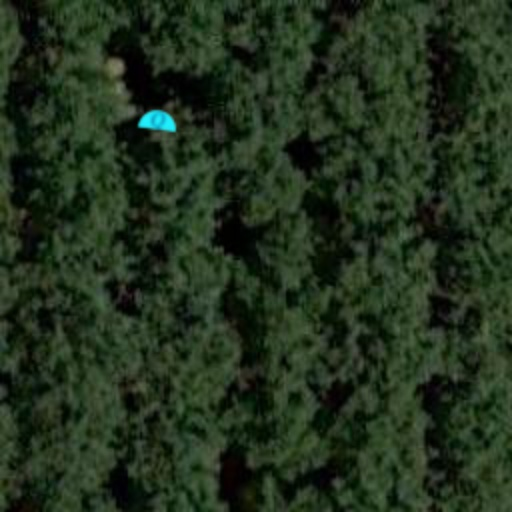semicircle: (136, 98, 180, 142)
